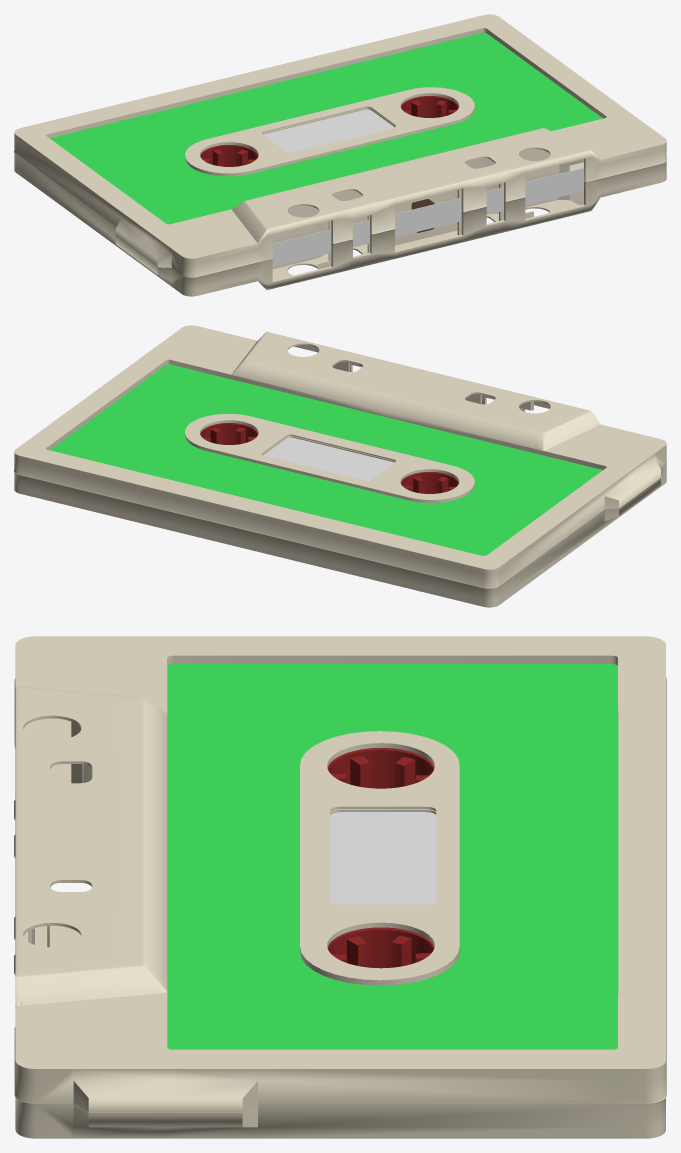
Rendered from kassette_fbx.fbx.
3 renders of one model, top to bottom at view 1: azimuth 30°, elevation 25°; view 2: azimuth 150°, elevation 25°; view 3: azimuth 270°, elevation 25°, orthographic. The views are drawn at different scales.
Parts seen in each view (by area): view 1: Cube, Cube.003, Cylinder.001, Cube.002; view 2: Cube, Cylinder.001; view 3: Cube, Cylinder.001.
Boxes of the visible parts, x1,y1,x2,y2 form: Cube: (14, 14, 666, 296); Cube.003: (272, 168, 584, 266); Cylinder.001: (200, 96, 458, 166); Cube.002: (395, 190, 457, 245); Cube: (14, 325, 666, 607); Cylinder.001: (200, 423, 458, 493); Cube: (14, 636, 666, 1138); Cylinder.001: (327, 748, 434, 968).
Size of the model in its own units: 105 by 12.1 by 64.03.
